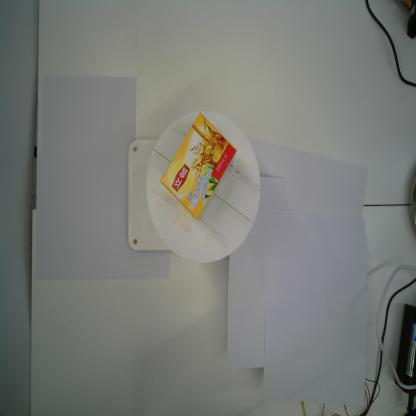Instant Drink: (159, 110, 238, 222)
